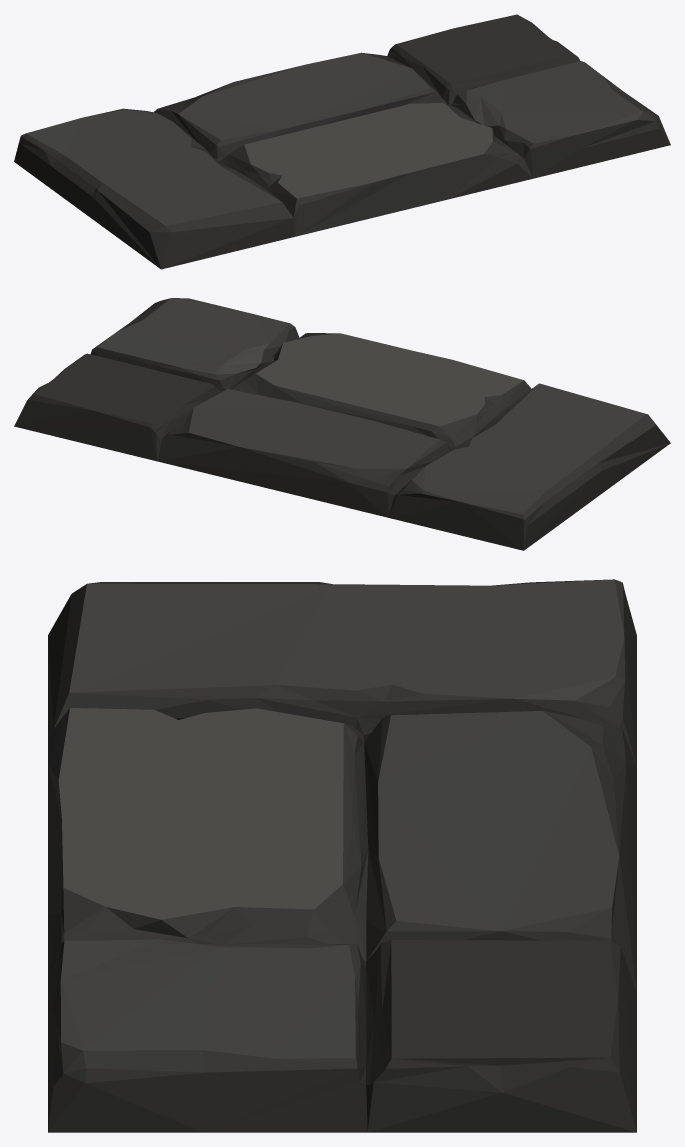
Rendered from SM_Bld_Floor_Half_Tile_01.fbx.
3 views of the same model, one above another, from view 1: azimuth 30°, elevation 25°; view 2: azimuth 150°, elevation 25°; view 3: azimuth 270°, elevation 25° (orthographic). The views are drawn at different scales.
Parts seen in each view (by area): view 1: SM_Bld_Floor_Half_Tile_01; view 2: SM_Bld_Floor_Half_Tile_01; view 3: SM_Bld_Floor_Half_Tile_01.
Part boxes in pixels (box(x1,y1,x2,y2)): SM_Bld_Floor_Half_Tile_01: box(14, 14, 670, 269); SM_Bld_Floor_Half_Tile_01: box(14, 298, 670, 550); SM_Bld_Floor_Half_Tile_01: box(48, 579, 636, 1132).
Size of the model in its own units: 250 by 15.48 by 125.
Materials: 1 (1 with a texture image).
